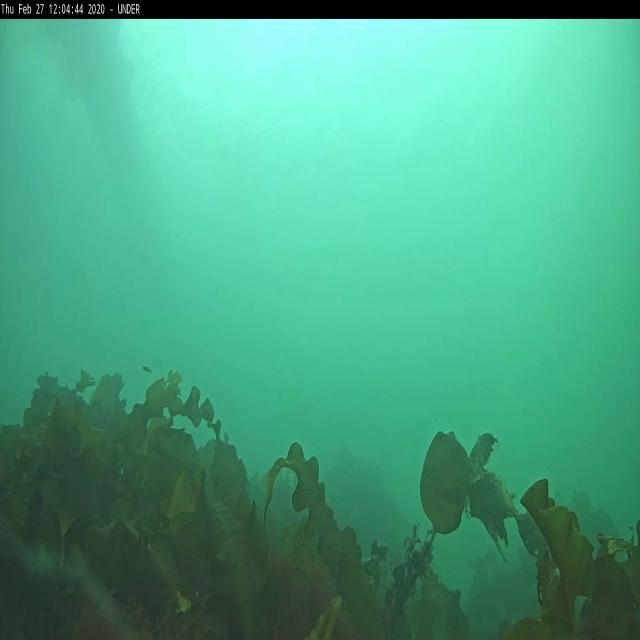fish: (142, 363, 154, 375)
